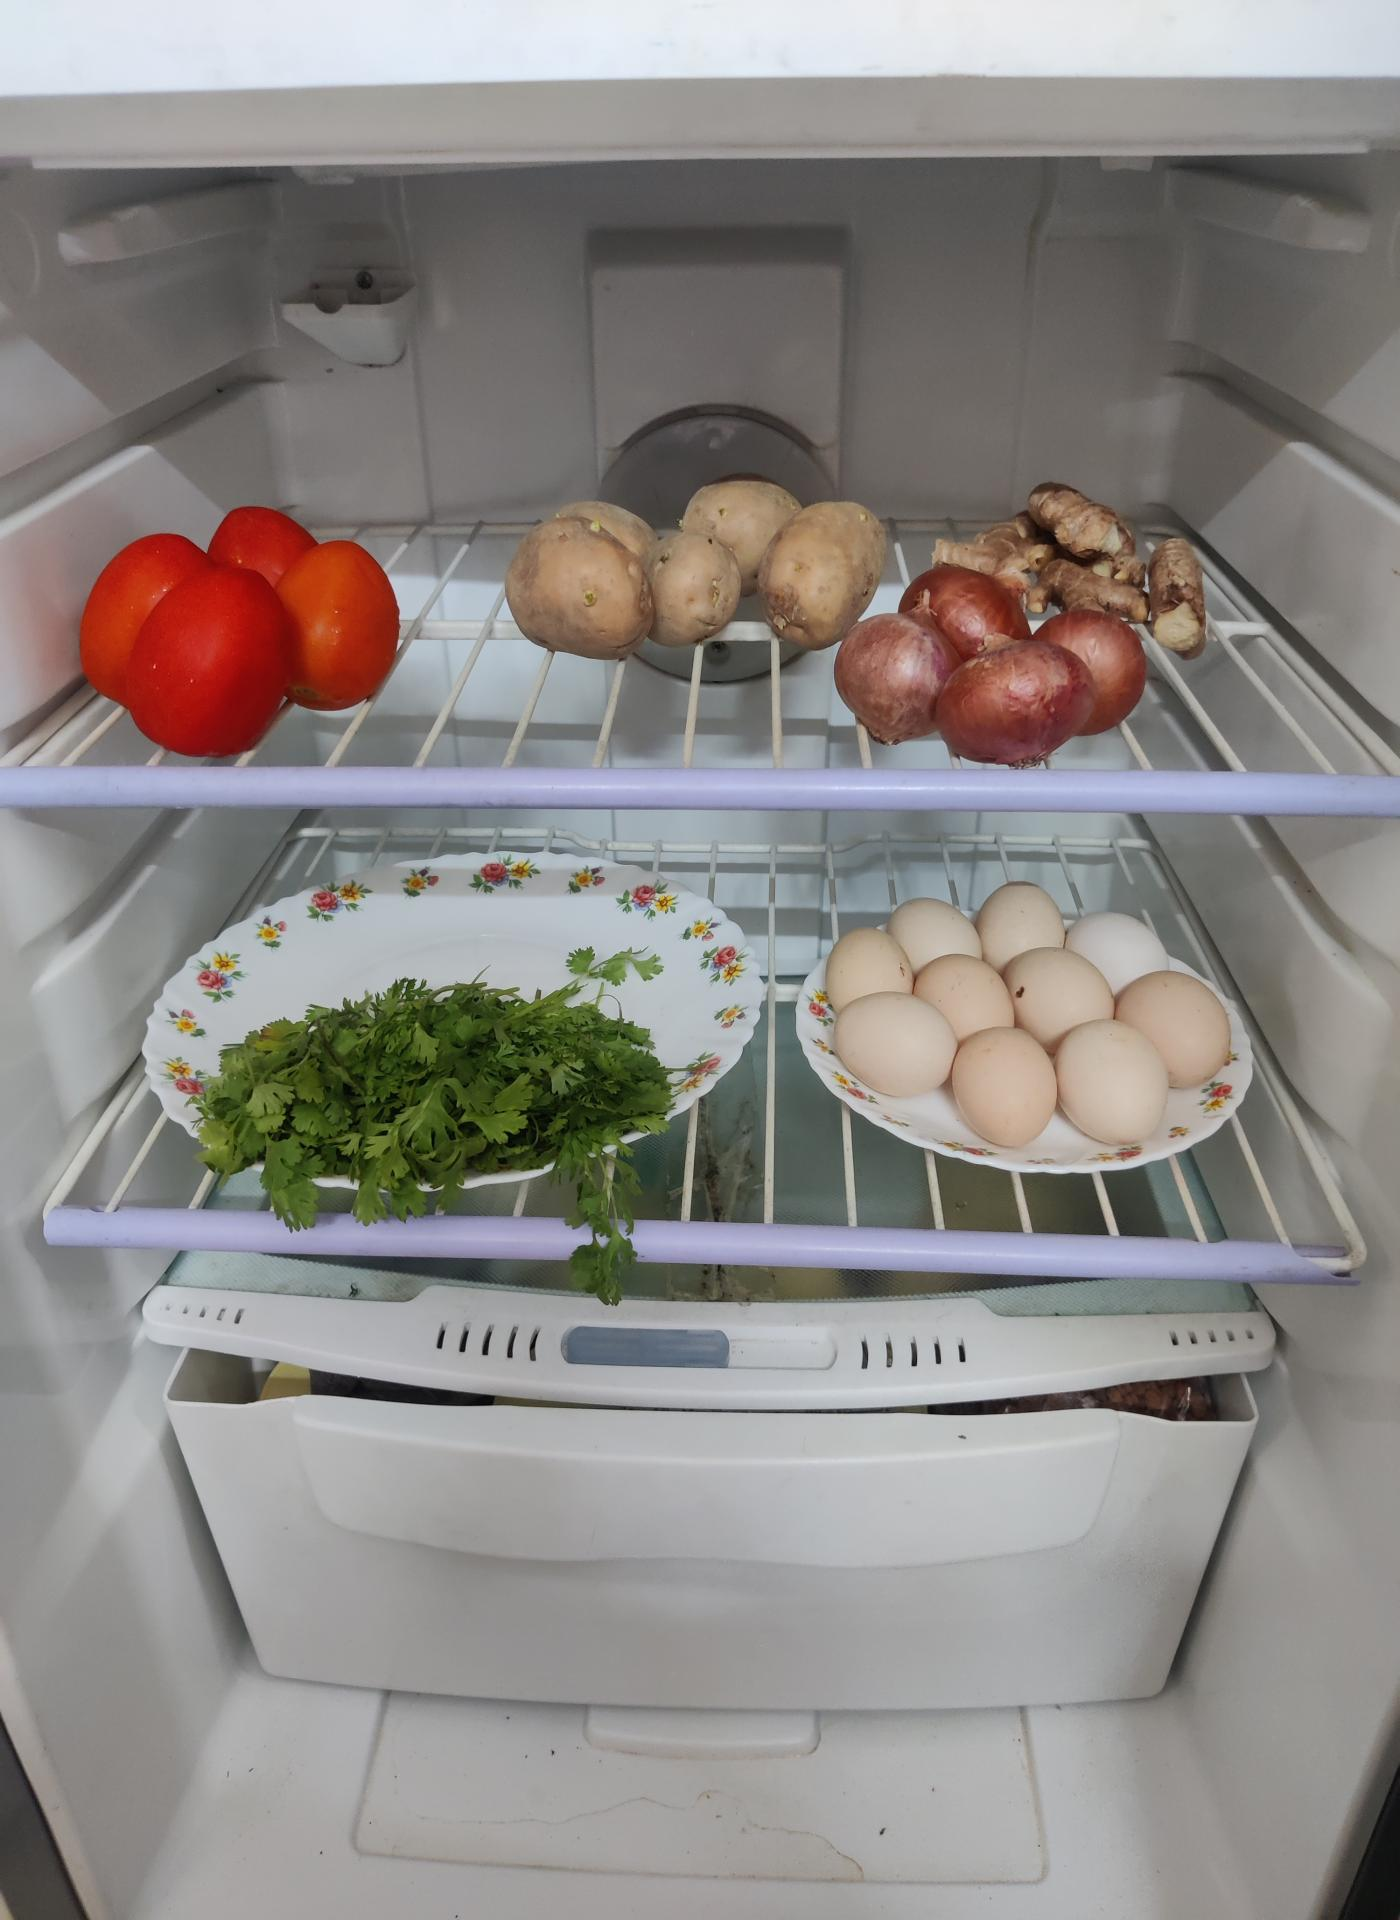coriander: (192, 978, 684, 1209)
egg: (802, 900, 1226, 1181)
ginger: (915, 481, 1220, 629)
onion: (832, 563, 1144, 771)
potato: (510, 481, 898, 666)
tomato: (85, 499, 407, 753)
